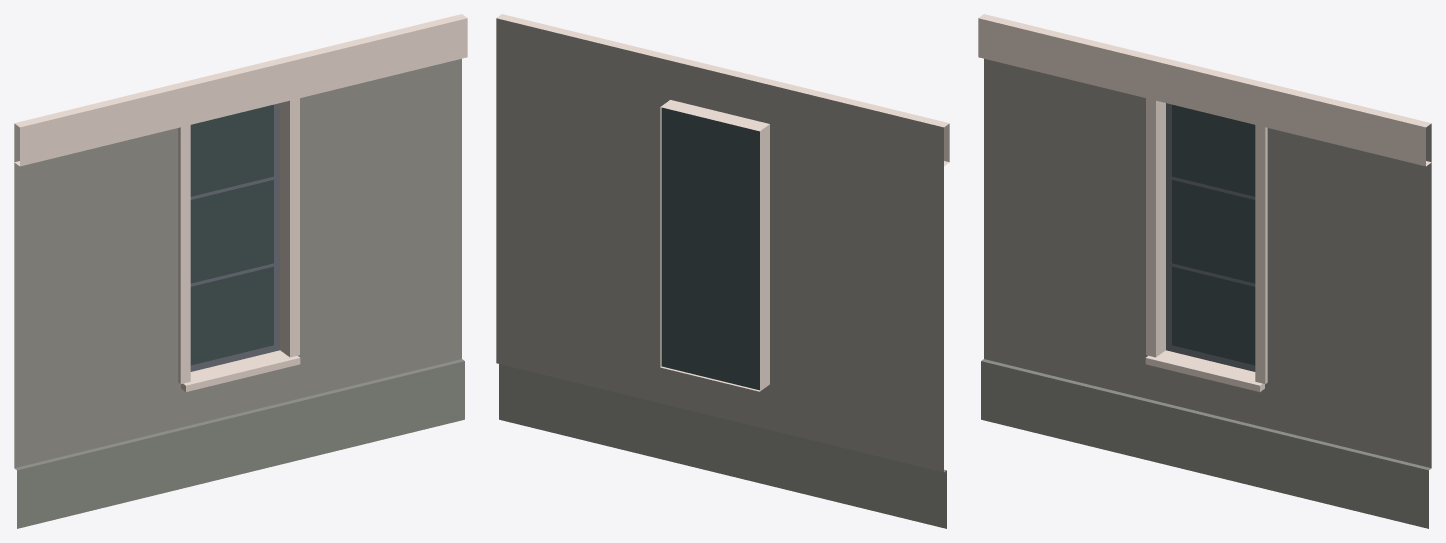
3 renders of one model, left to right at view 1: azimuth 30°, elevation 25°; view 2: azimuth 150°, elevation 25°; view 3: azimuth 330°, elevation 25°, orthographic.
Visible parts, largest first — view 1: a2001/800/base-w4; view 2: a2001/800/base-w4; view 3: a2001/800/base-w4.
Boxes of the visible parts, x1=… form: a2001/800/base-w4: x1=14, y1=14, x2=467, y2=528; a2001/800/base-w4: x1=496, y1=14, x2=949, y2=528; a2001/800/base-w4: x1=978, y1=14, x2=1431, y2=528.
Size of the model in its own units: 3.6 by 3.1 by 0.22.
